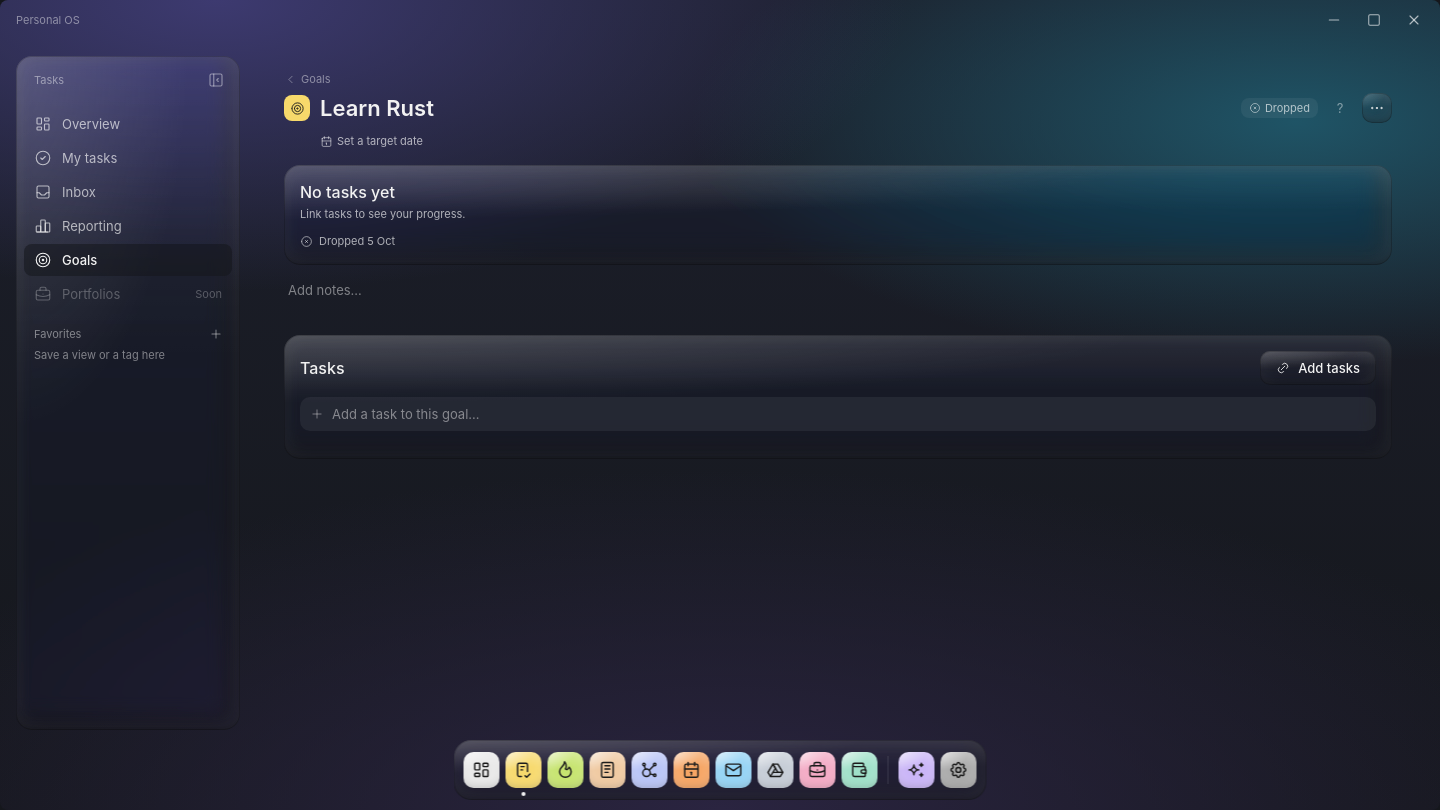
the more menu › offers Make active again, not achieve or drop, for a closed goal
The width and height of the screenshot is (1440, 810).
Expected: the field named "Goal title" is shown, [316, 94, 1231, 122]
Click the button named "More".
click(1377, 108)  # box [1362, 93, 1392, 123]
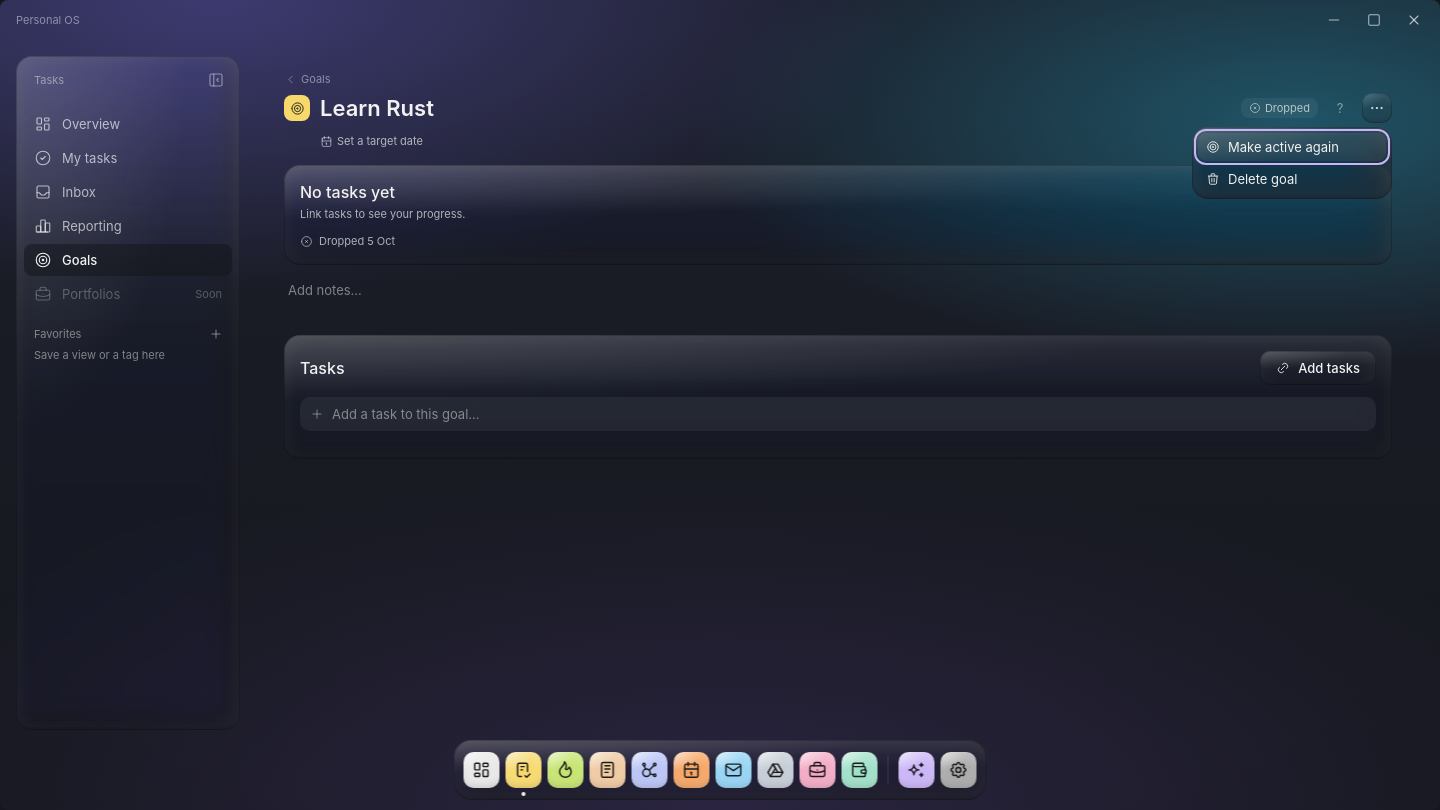
Expected: the menu item "Make active again" is shown, [1198, 133, 1386, 161]
